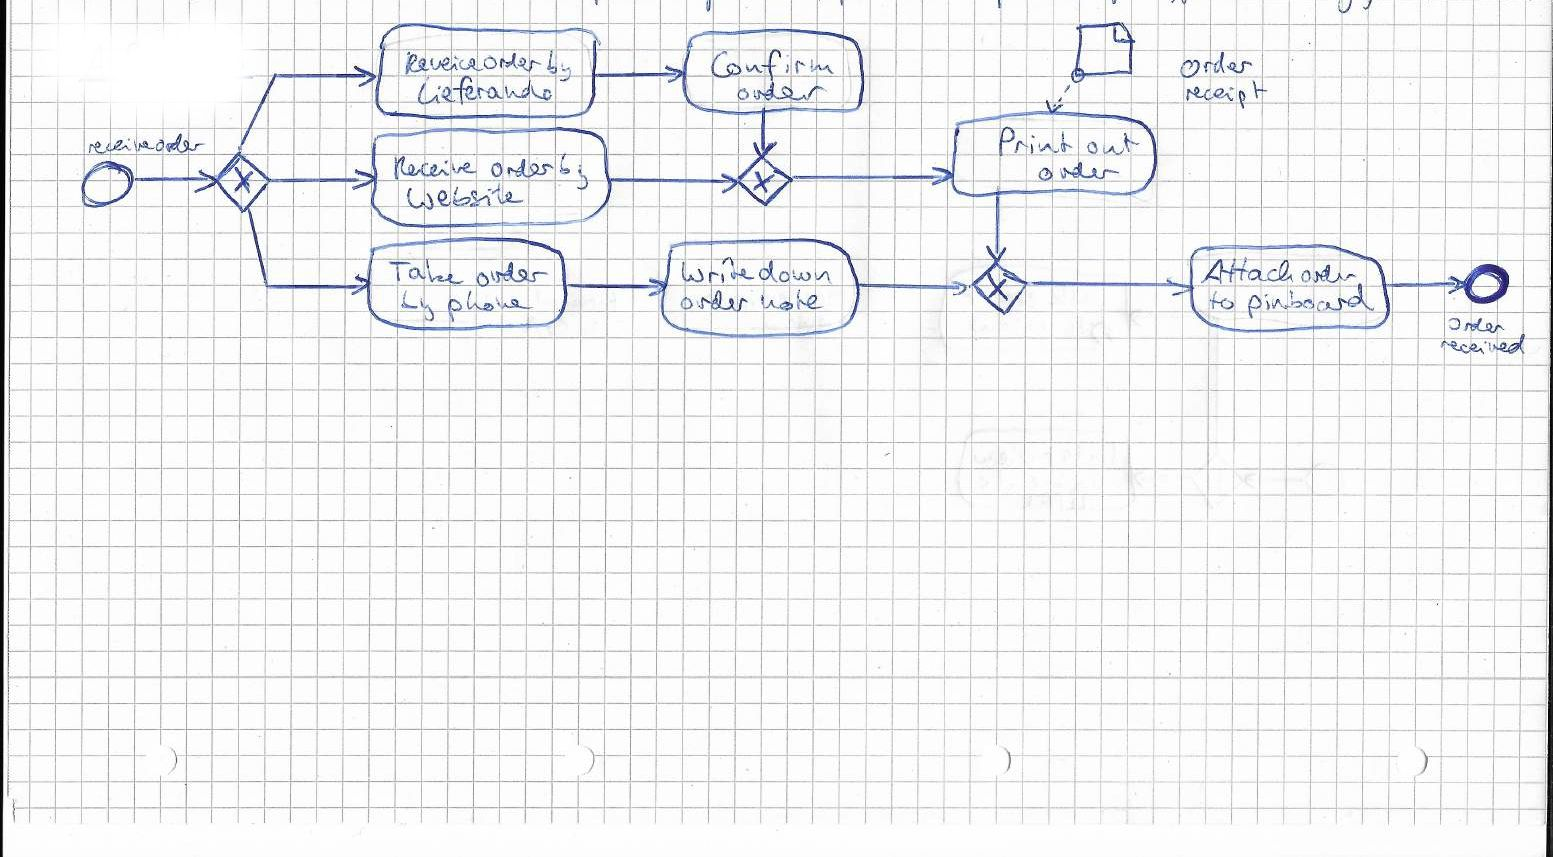Attach: (1199, 259, 1297, 289)
Confirm: (704, 46, 839, 78)
Lieferando: (416, 79, 555, 107)
Order: (1173, 52, 1252, 83)
Print: (995, 126, 1077, 158)
Receive: (399, 52, 484, 78), (391, 157, 479, 180)
Take: (382, 260, 467, 288)
Write: (679, 256, 760, 286)
by: (397, 286, 440, 320), (554, 151, 589, 190), (544, 52, 575, 85)
down: (754, 262, 835, 287)
note: (752, 291, 827, 315)
order: (468, 262, 549, 289), (733, 82, 829, 104), (479, 49, 547, 79), (679, 291, 758, 315), (1297, 260, 1360, 288), (1040, 161, 1120, 184), (484, 157, 556, 180), (1444, 312, 1512, 337)
out: (1082, 128, 1139, 158)
phone: (445, 286, 533, 320)
pinboard: (1243, 286, 1372, 317)
receipt: (1183, 83, 1267, 106)
receive: (81, 134, 156, 155)
received: (1439, 337, 1526, 356)
to: (1204, 289, 1244, 316)
website: (399, 185, 524, 211)
